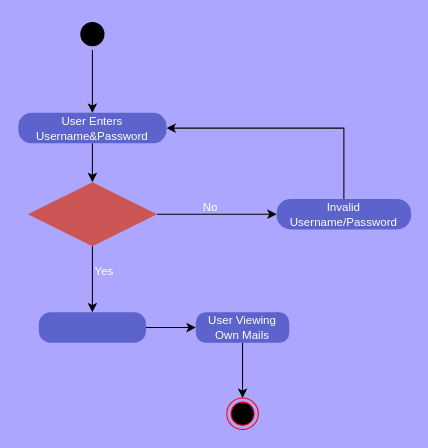
Image size: 428x448. Some labels were removed from this diagram. The box of each missing label's shape, as (x1, y1, x2, y2) in pixels:
Is authentication successfully?: (27, 182, 156, 246)
User Succesfully Login: (38, 312, 145, 342)
